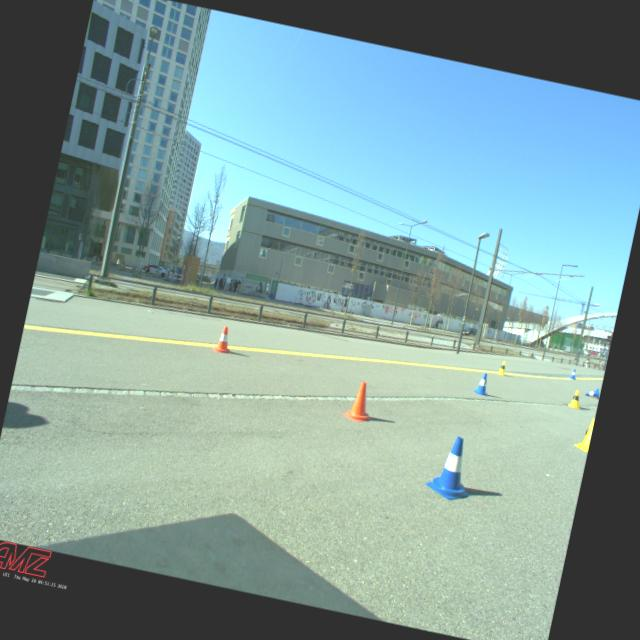blue_cone: (423, 432, 480, 503), (472, 371, 492, 396), (584, 386, 600, 398), (568, 368, 578, 380)
orange_cone: (342, 378, 378, 424), (212, 324, 235, 354)
yellow_cone: (572, 414, 594, 452), (567, 389, 583, 409), (496, 360, 507, 376)
